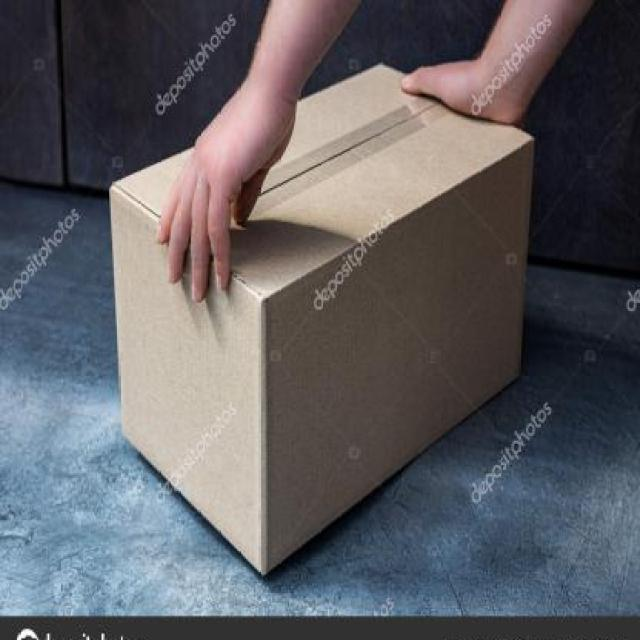box: (91, 51, 567, 599)
